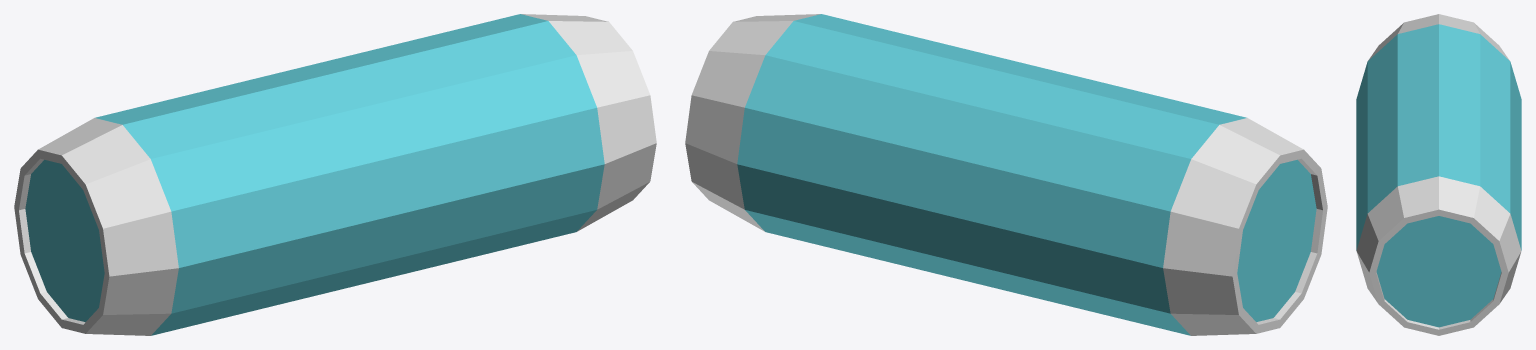
The model's file is Tile8.fbx.
The picture shows the model from 3 angles, left to right: view 1: azimuth 30°, elevation 25°; view 2: azimuth 150°, elevation 25°; view 3: azimuth 270°, elevation 25°; orthographic projection. The views are drawn at different scales.
Parts seen in each view (by area): view 1: m8; view 2: m8; view 3: m8.
Part boxes in pixels (bbox=[...]): m8: bbox=[14, 14, 656, 335]; m8: bbox=[685, 14, 1327, 335]; m8: bbox=[1356, 14, 1521, 335].
Bounding box in the file's own units: 14.23 × 5.07 × 5.07.
